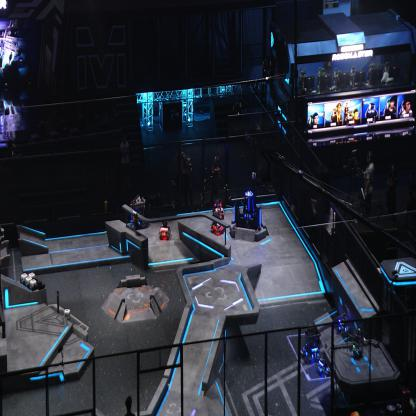car: (300, 326, 322, 362), (316, 349, 334, 376), (132, 197, 147, 228), (209, 210, 226, 234), (158, 218, 171, 240), (212, 200, 224, 220)
